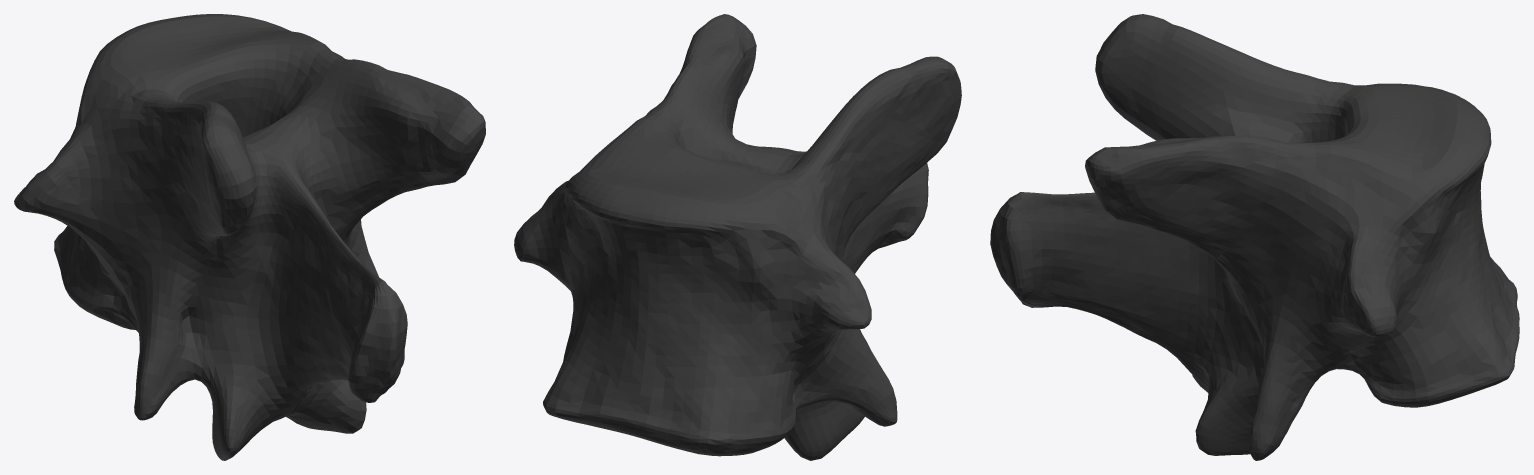
The picture shows the model from 3 angles, left to right: view 1: azimuth 30°, elevation 25°; view 2: azimuth 150°, elevation 25°; view 3: azimuth 270°, elevation 25°; orthographic projection. The views are drawn at different scales.
Parts seen in each view (by area): view 1: t13_low; view 2: t13_low; view 3: t13_low.
Boxes of the visible parts, x1,y1,x2,y2 form: t13_low: (14,14,485,460); t13_low: (514,14,961,460); t13_low: (990,14,1519,460).
Bounding box in the file's own units: 39.62 × 39.11 × 50.21.
1 material, 1 textured.
